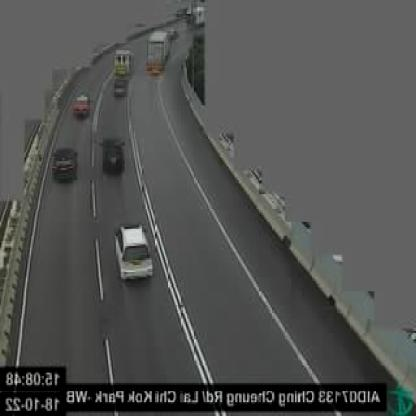Car: (113, 219, 157, 284), (51, 144, 80, 185), (99, 135, 125, 177), (71, 92, 91, 120), (111, 79, 127, 99)
Truck: (145, 30, 171, 75), (112, 46, 133, 82)
